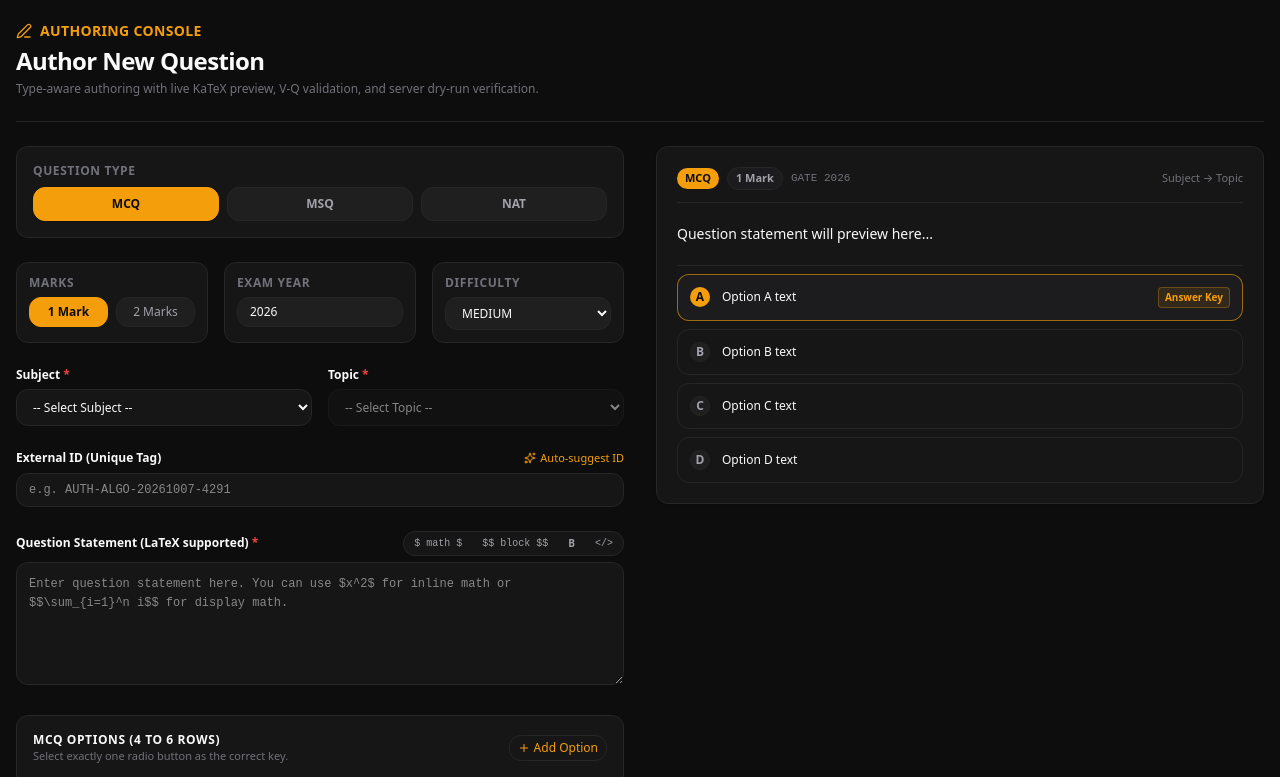
Test: AuthoringPage › type switch swaps builders between MCQ, MSQ, and NAT
expect the heading "MCQ Options (4 to 6 rows)" is shown: met, box [33,731,220,748]
expect the text "Numerical Answer Range" is not shown: met
Switch to MSQ
Click the button "MSQ" at (320, 204), box [227,187,413,221]
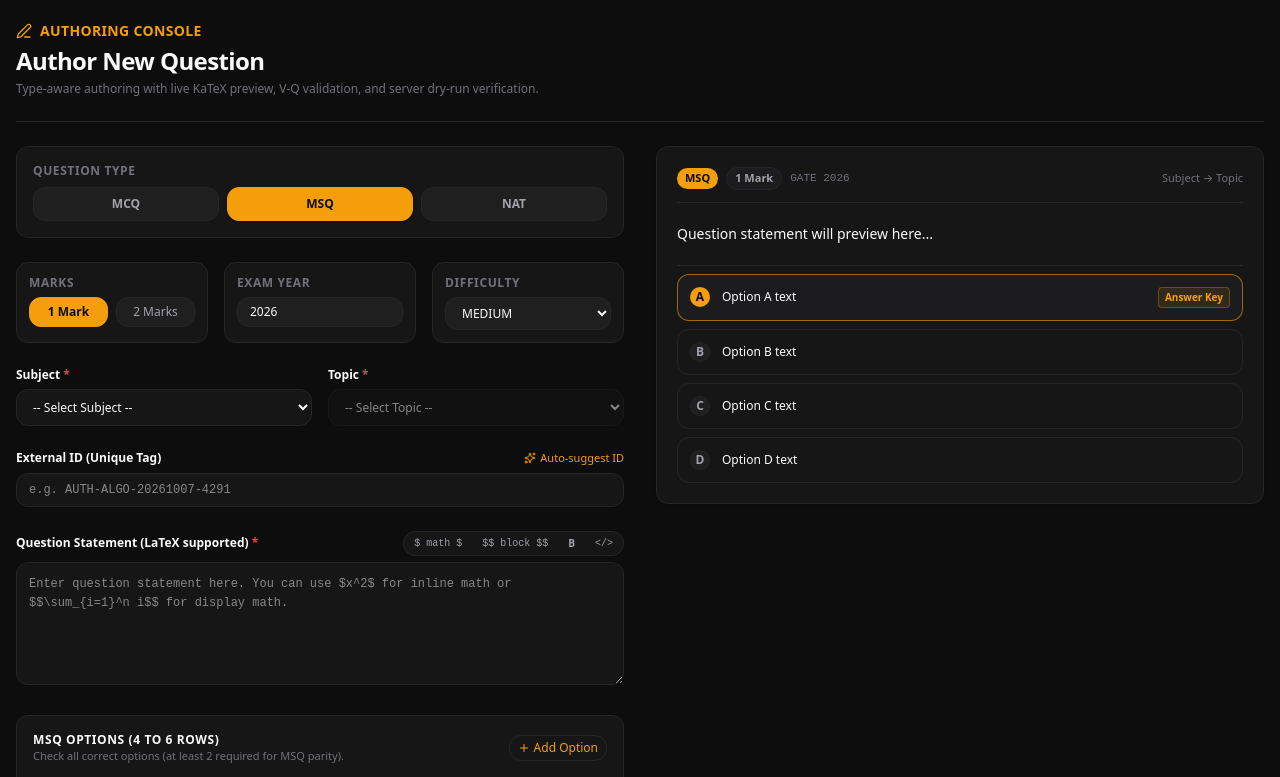
expect the heading "MSQ Options (4 to 6 rows)" is shown: met, box [33,731,219,748]
expect the text "Check all correct options" is shown: met, box [33,748,344,763]
Switch to NAT
Click the button "NAT" at (514, 204), box [421,187,607,221]
(page scrolled)
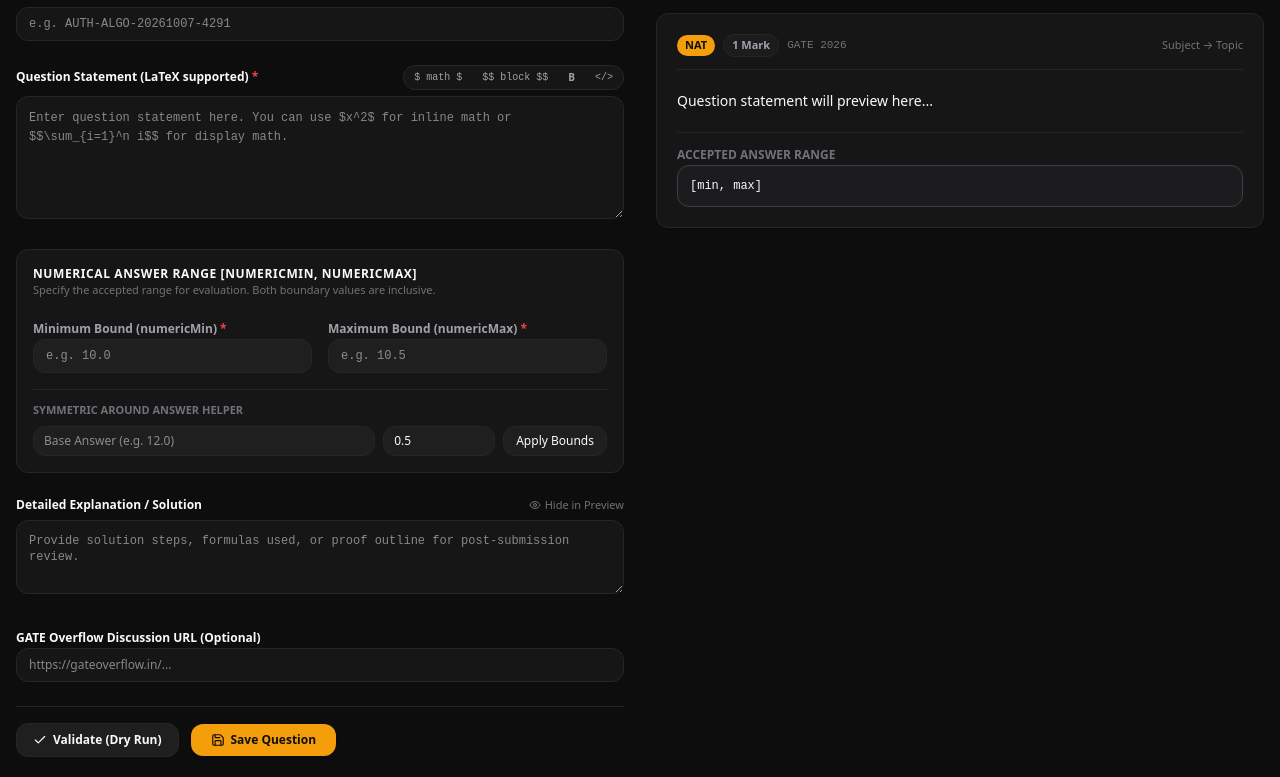
expect the heading "Numerical Answer Range [numericMin, numericMax]" is shown: met, box [33,265,417,282]
expect the number field with placeholder "Base Answer (e.g. 12.0)" is shown: met, box [33,426,375,456]
